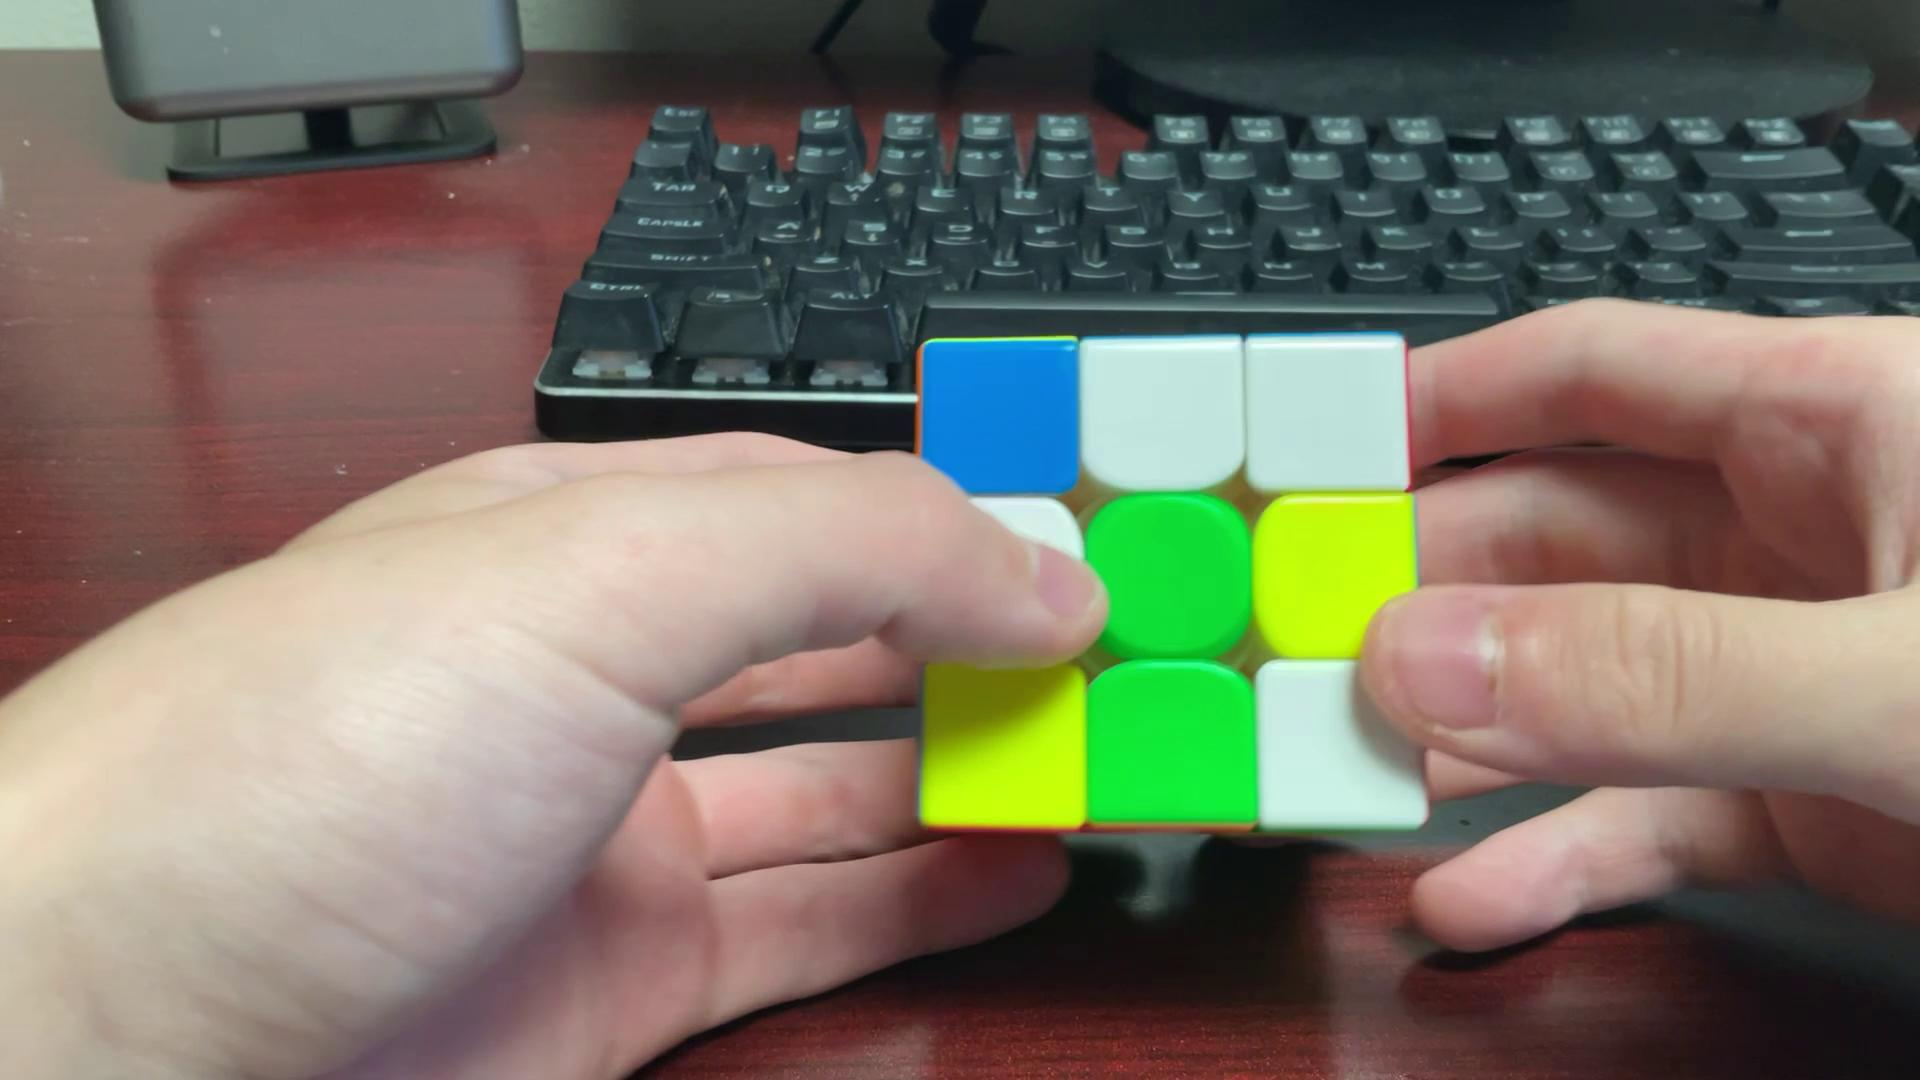Rubiks-Cube: (909, 322, 1441, 833)
